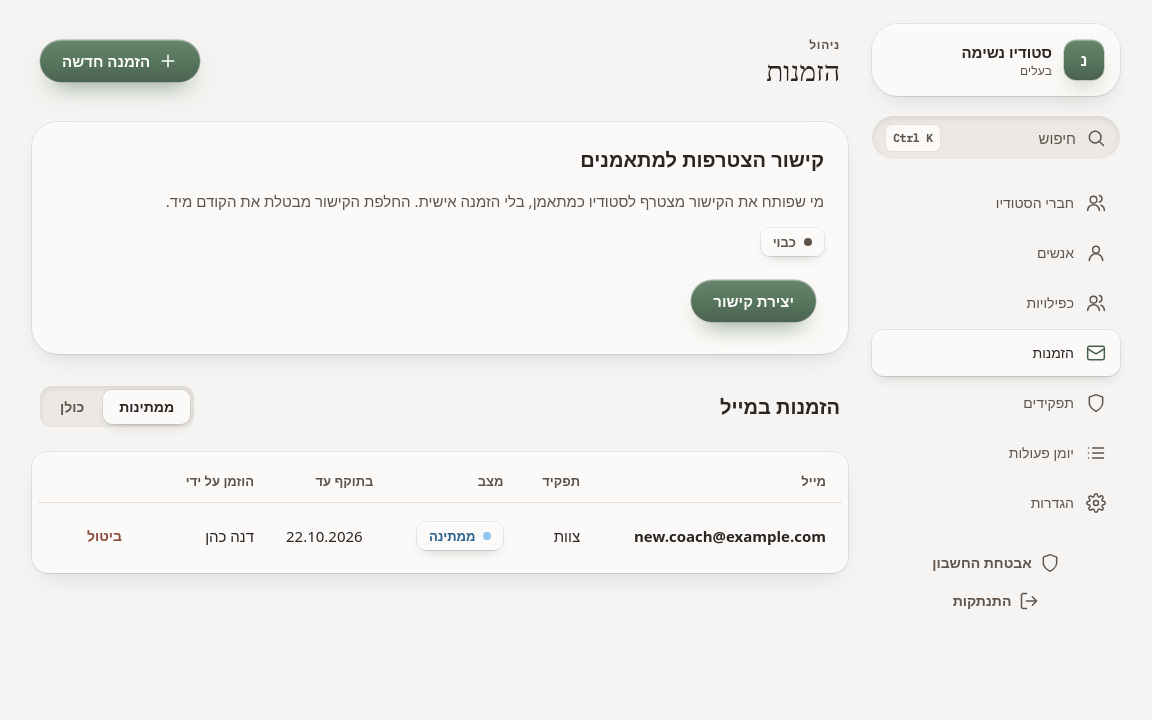
Test: invitations › lists pending invitations by default and all of them on request
Expected: the row "new.coach@example.com צוות ממתינה 22.10.2026 דנה כהן ביטול" is shown, [38,507,842,565]
Click the button "כולן": (72, 407) [44,390,100,424]
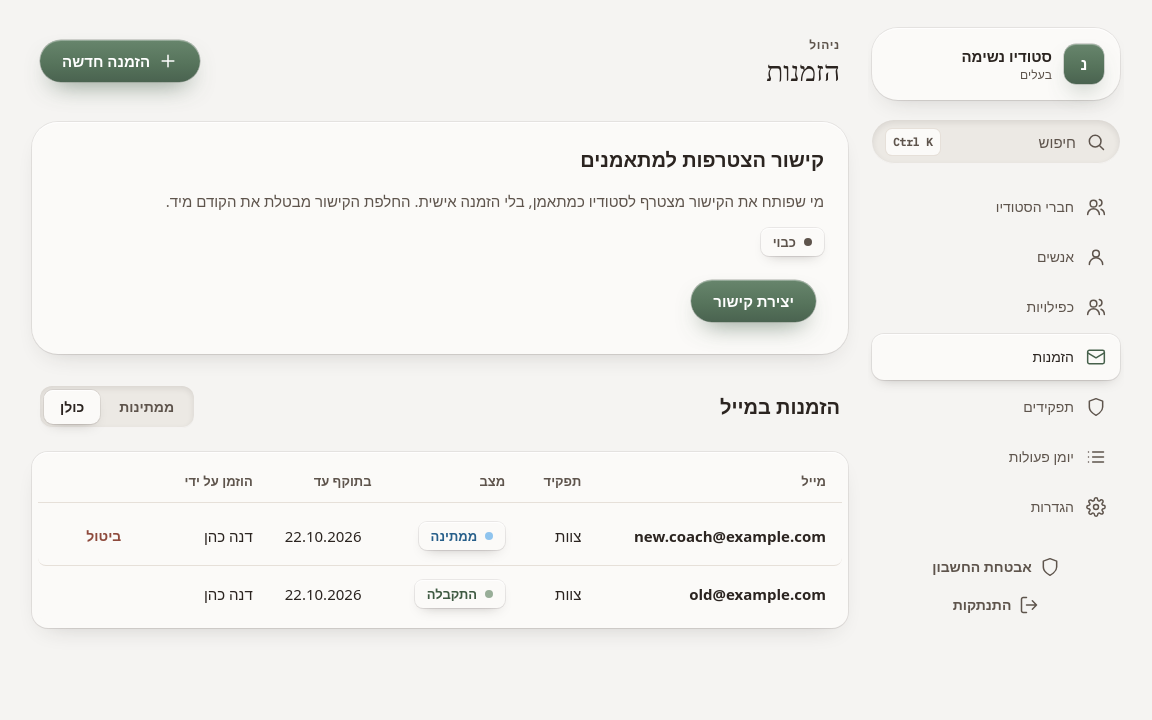
Now the text "old@example.com" is shown, box [689,583,826,605]
